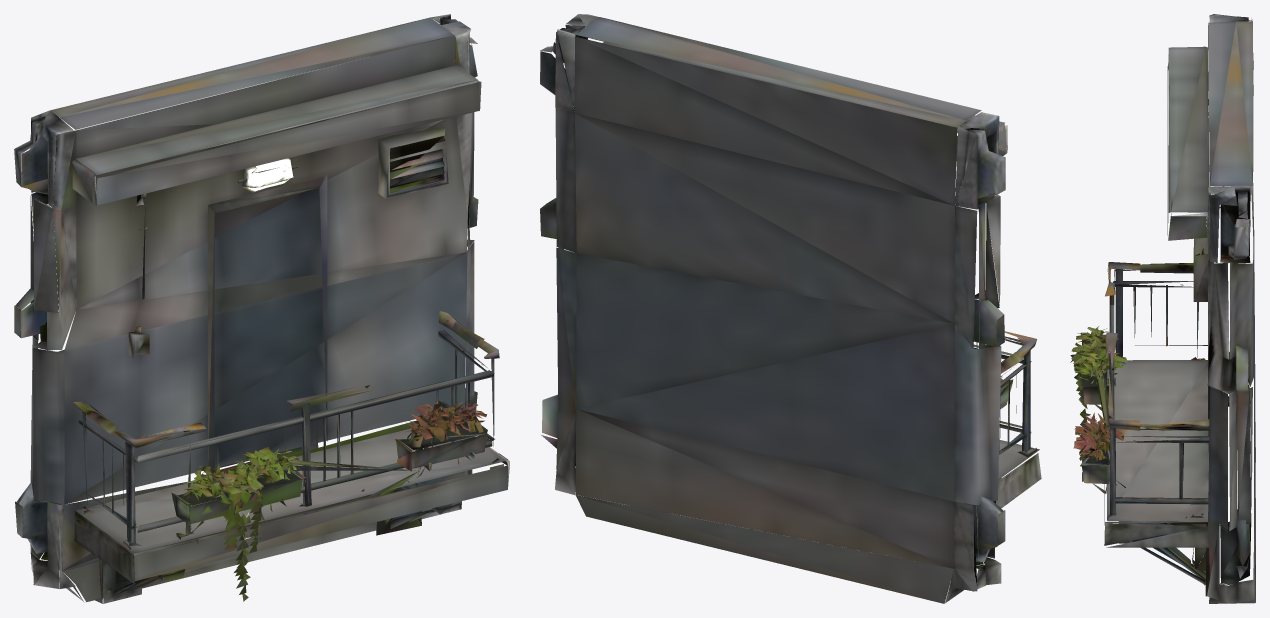
File: balcony-far.glb
The picture shows the model from 3 angles, left to right: view 1: azimuth 30°, elevation 25°; view 2: azimuth 150°, elevation 25°; view 3: azimuth 270°, elevation 25°; orthographic projection. The views are drawn at different scales.
Parts seen in each view (by area): view 1: balcony; view 2: balcony; view 3: balcony.
Part boxes in pixels (box(x1,y1,x2,y2)): balcony: box(14, 14, 509, 603); balcony: box(540, 14, 1041, 603); balcony: box(1070, 14, 1255, 603).
Size of the model in its own units: 3.62 by 3.63 by 1.43.
Materials: 1 (1 with a texture image).
